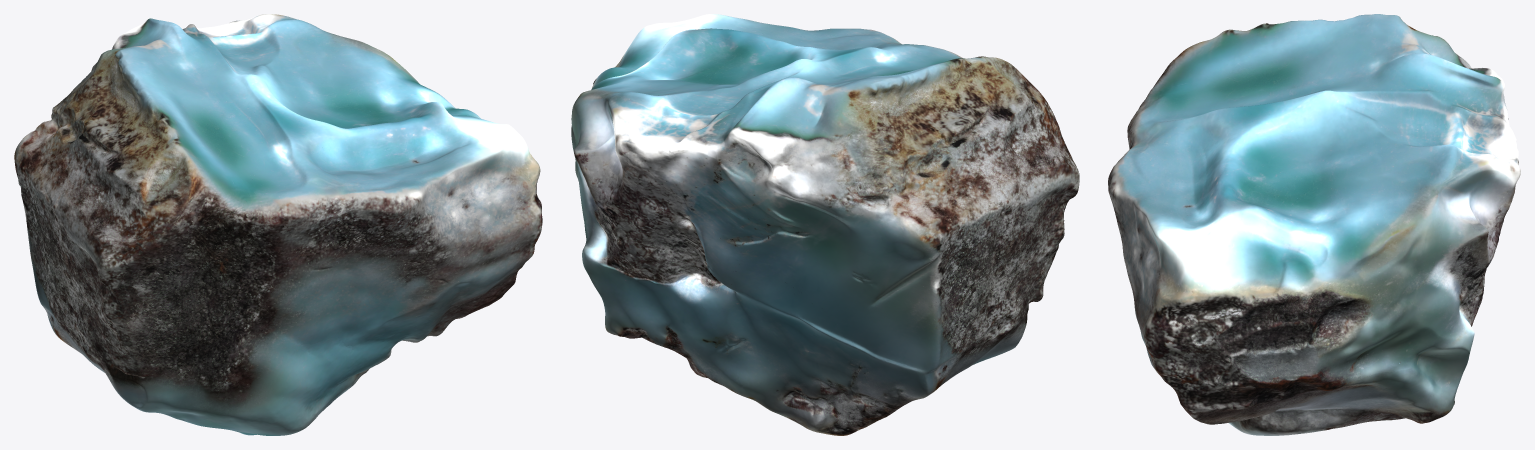
The model's file is observador_azury.glb.
3 renders of one model, left to right at view 1: azimuth 30°, elevation 25°; view 2: azimuth 150°, elevation 25°; view 3: azimuth 270°, elevation 25°, orthographic. The views are drawn at different scales.
Bounding box in the file's own units: 1.9 × 1.49 × 1.51.
1 material, 1 textured.
